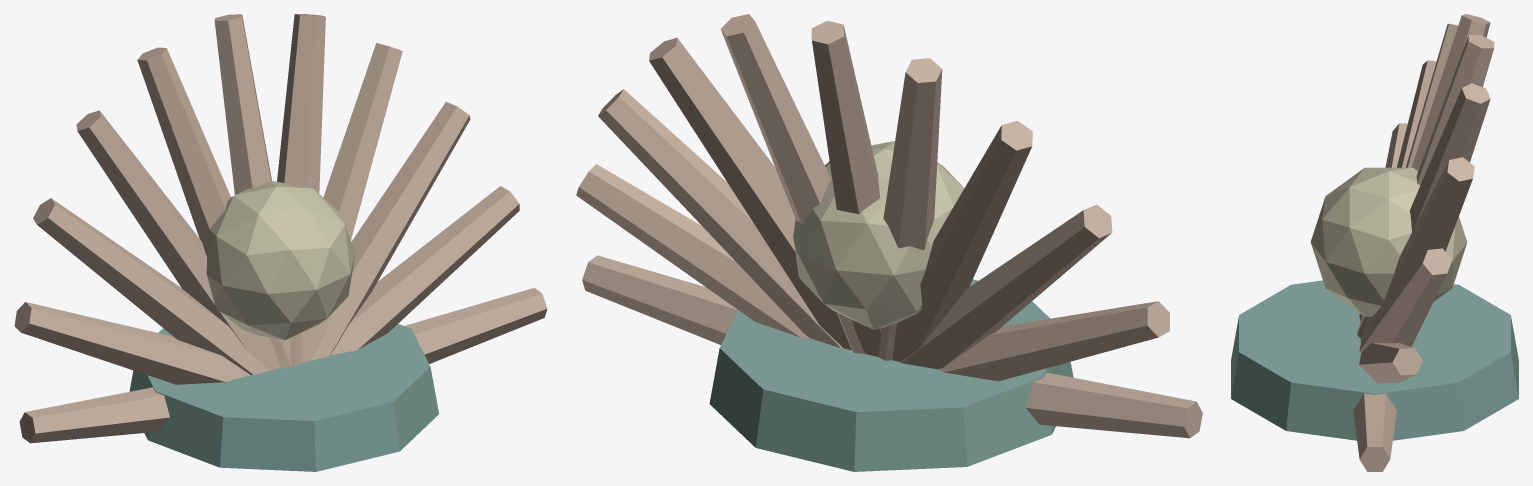
The model's file is map-exclusive-v3__tide_02.glb.
3 views of the same model, side by side, from view 1: azimuth 30°, elevation 25°; view 2: azimuth 150°, elevation 25°; view 3: azimuth 270°, elevation 25° (orthographic). The views are drawn at different scales.
Parts seen in each view (by area): view 1: tide_02; view 2: tide_02; view 3: tide_02.
Part boxes in pixels (x1,y1,x2,y2): tide_02: (14, 14, 547, 471); tide_02: (576, 14, 1202, 471); tide_02: (1231, 14, 1518, 471).
Size of the model in its own units: 2.05 by 1.37 by 1.03.
